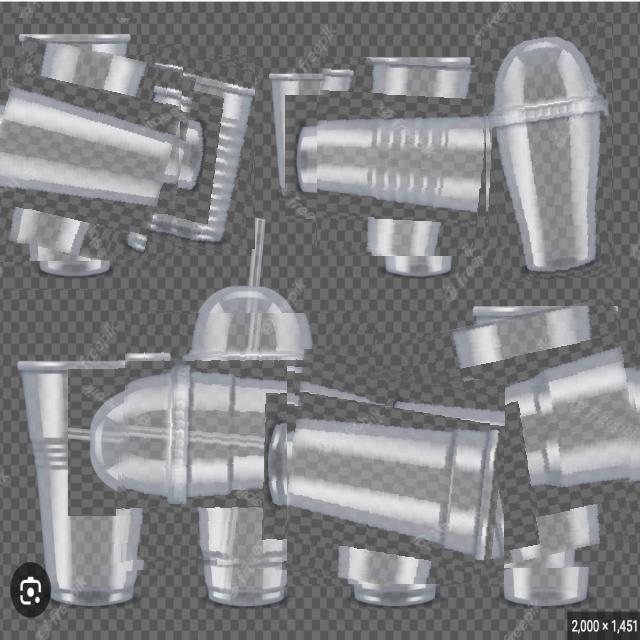recyclable: (117, 314, 375, 572), (413, 306, 640, 570), (288, 366, 506, 584), (0, 44, 184, 262), (317, 59, 514, 256), (485, 22, 612, 282), (130, 51, 255, 249)
